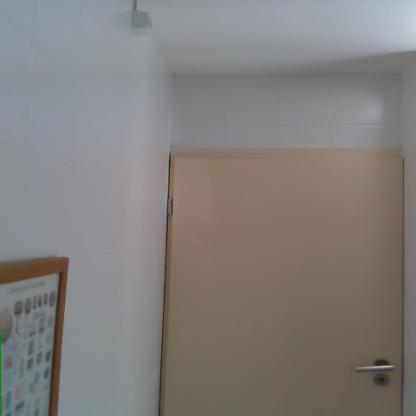door: (170, 155, 403, 415)
hinged: (167, 196, 176, 216)
lever: (353, 360, 398, 376)
